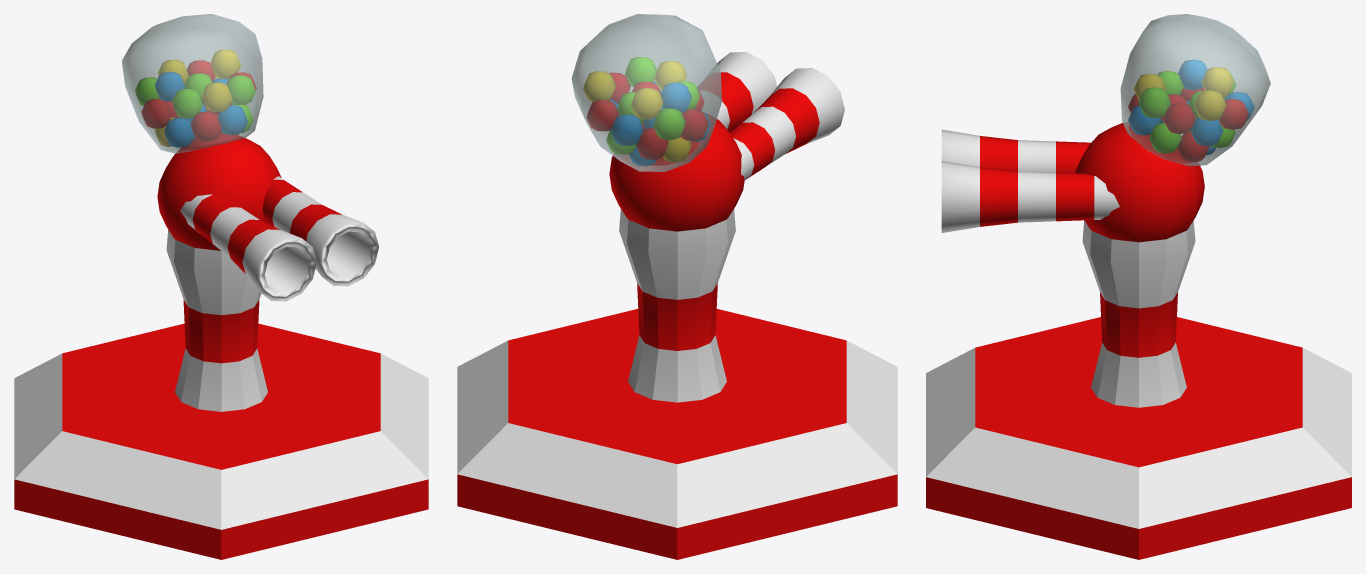
The model's file is TurretGumBallUpgradev3.fbx.
3 views of the same model, side by side, from view 1: azimuth 30°, elevation 25°; view 2: azimuth 150°, elevation 25°; view 3: azimuth 270°, elevation 25° (orthographic). The views are drawn at different scales.
Parts seen in each view (by area): view 1: base, rotationObject; view 2: base, rotationObject; view 3: base, rotationObject.
Boxes of the visible parts, box(x1,y1,x2,y2) form: base: box(14, 229, 428, 559); rotationObject: box(122, 14, 378, 301); base: box(457, 209, 897, 559); rotationObject: box(571, 14, 844, 231); base: box(926, 220, 1351, 559); rotationObject: box(941, 14, 1270, 242).
Bounding box in the file's own units: 2 × 1.94 × 1.73.
